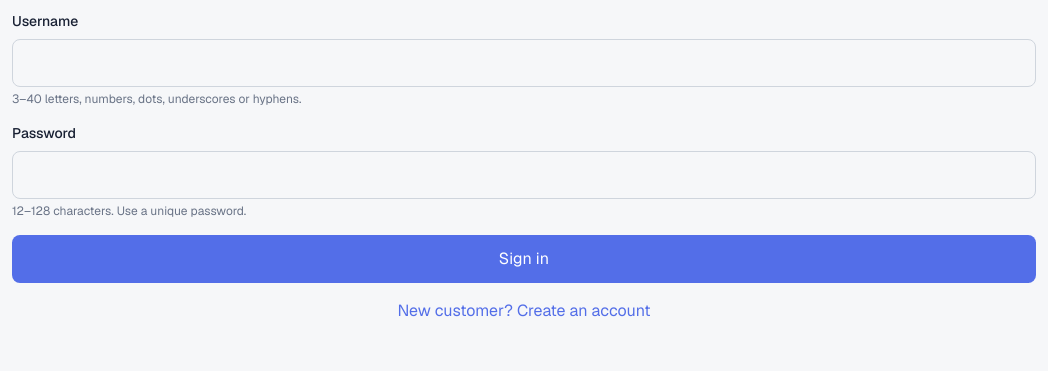
Test: shows a recoverable sign-in error and preserves the username
The width and height of the screenshot is (1048, 371).
In the field labelled "Username": coordinates (524, 63) [12, 39, 1036, 87], type "test.customer"
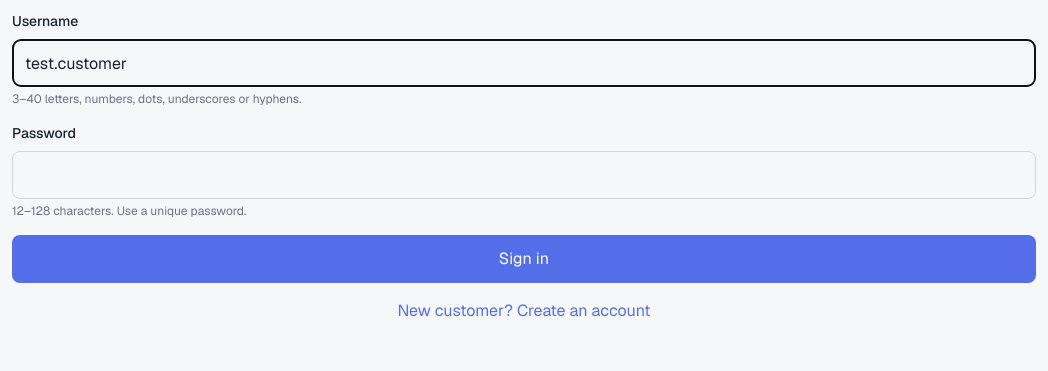
In the password field labelled "Password": coordinates (524, 175) [12, 151, 1036, 199], type "a long test password"
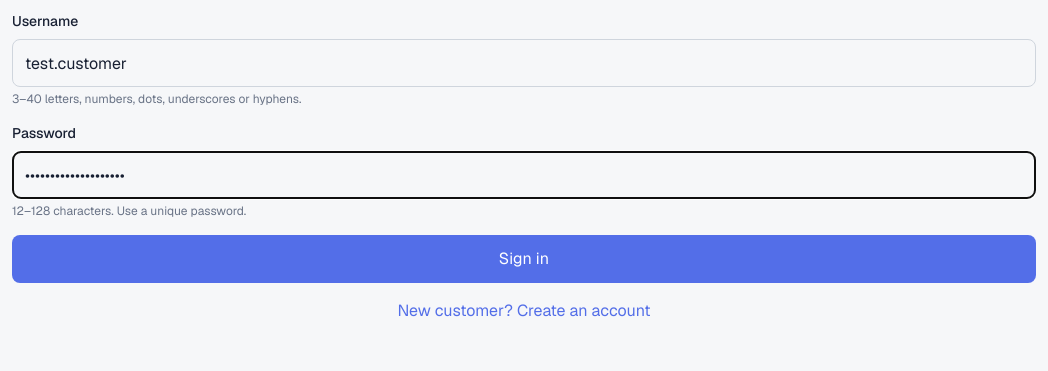
Click the button "Sign in": coordinates (524, 259) [12, 235, 1036, 283]
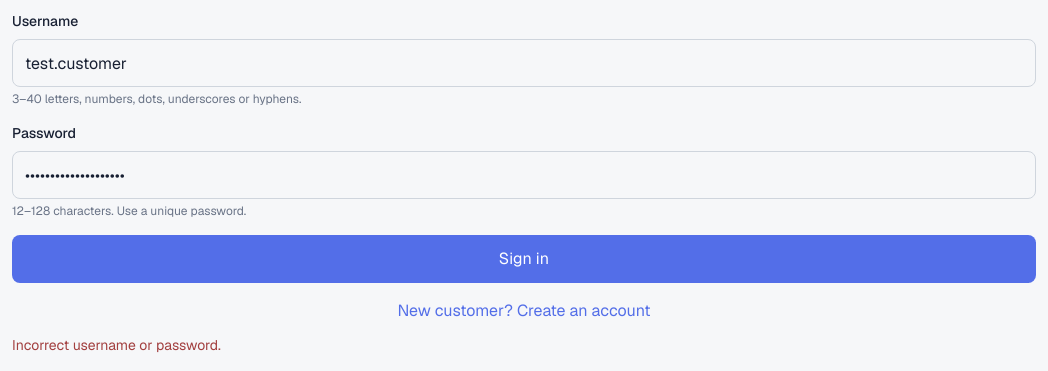
Result: the message reads "Incorrect username or password." at [12, 336, 221, 354]
